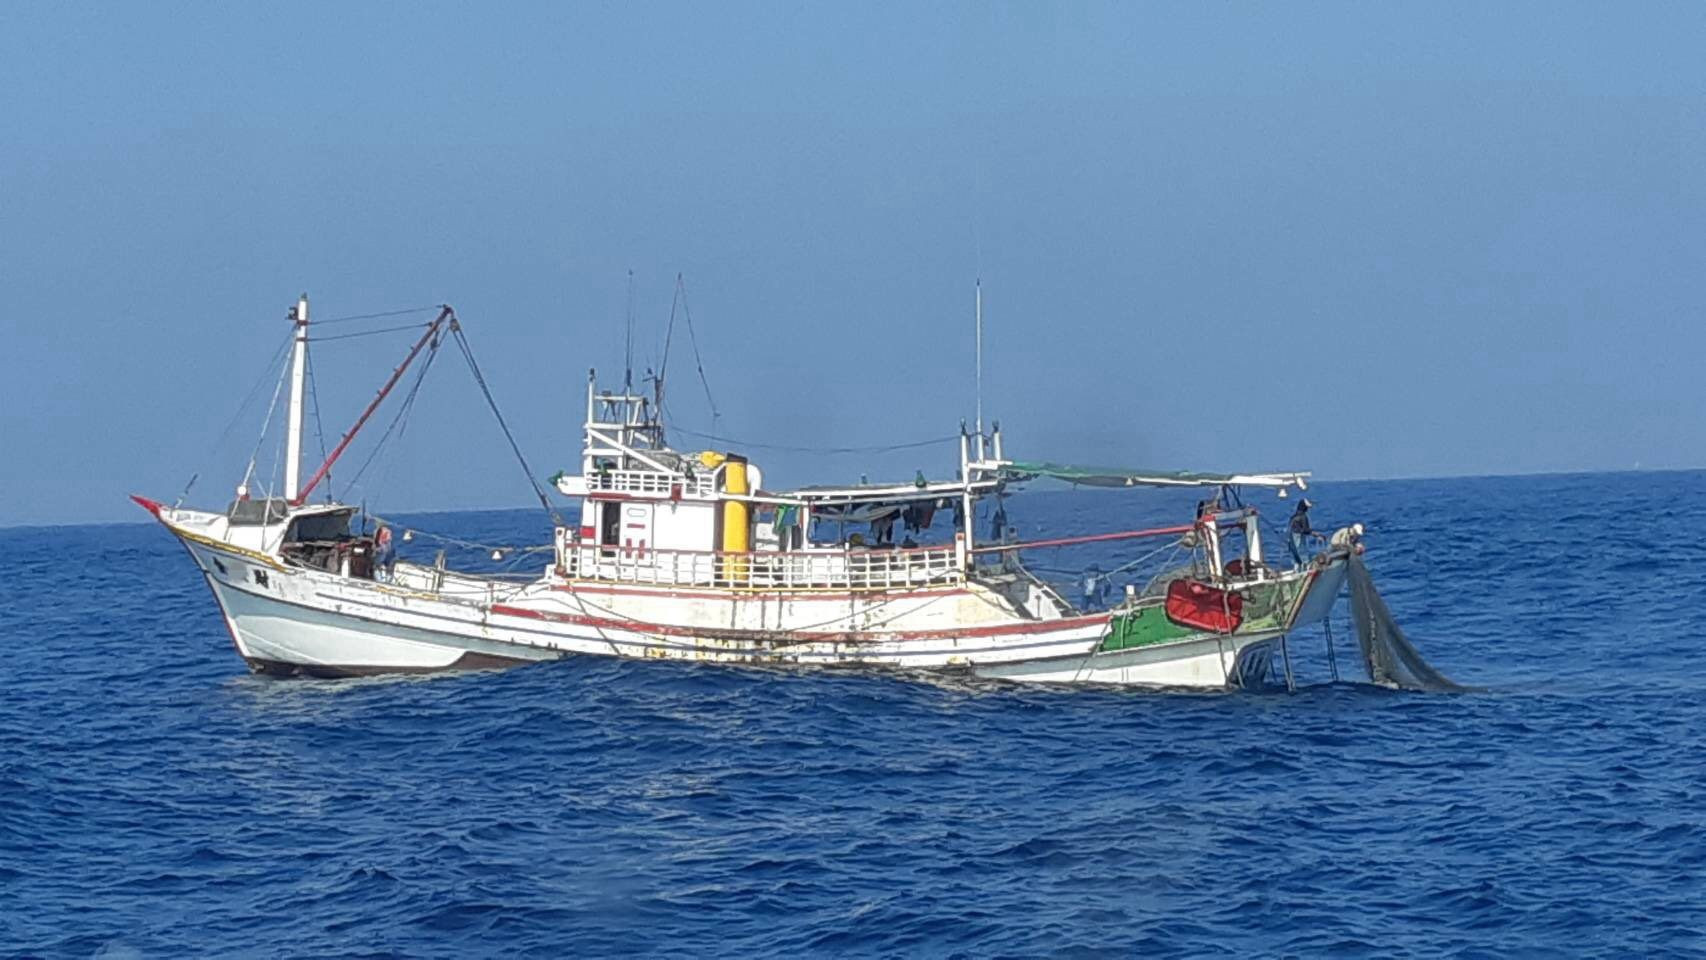otherboat: (151, 297, 1411, 706)
